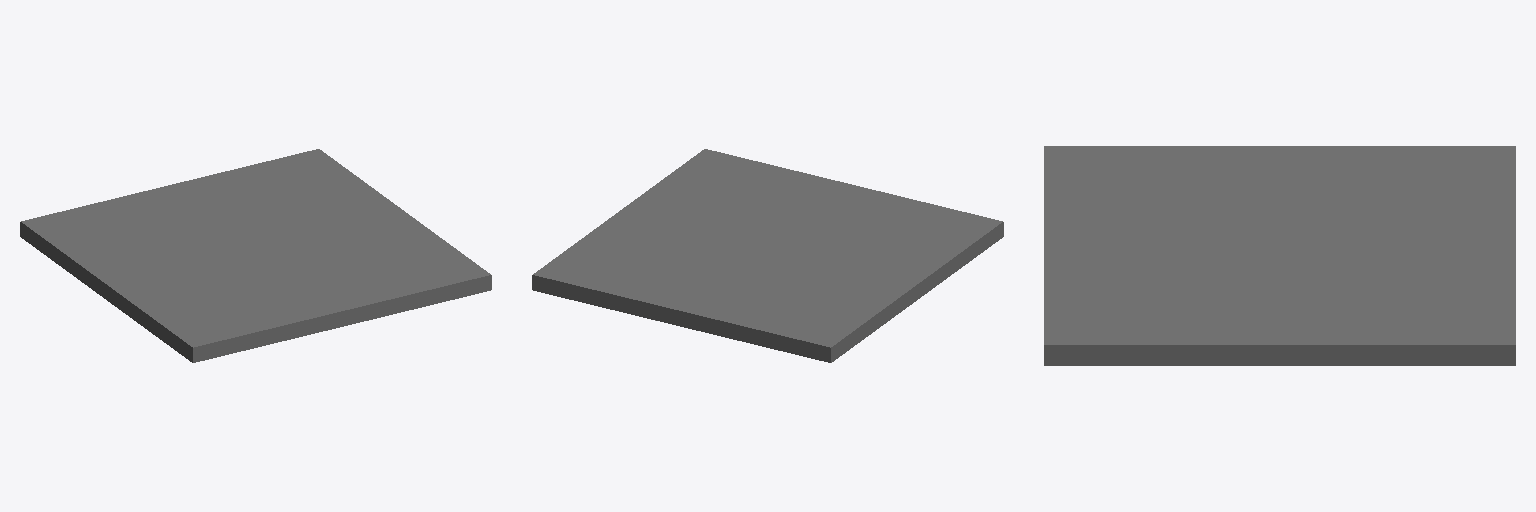
The robot description file, URDF, robot "mantel":
<?xml version="1.0"?>
<robot name="mantel">
  <link name="mantel_link">
    <visual>
      <geometry>
        <box size="0.2 0.2 0.01"/>
      </geometry>
      <material name="gray">
        <color rgba="0.5 0.5 0.5 1.0"/>
      </material>
    </visual>
    <collision>
      <geometry>
        <box size="0.6 0.6 0.01"/>
      </geometry>
    </collision>
    <inertial>
      <mass value="0.1"/>
      <origin xyz="0 0 0" rpy="0 0 0"/>
      <inertia ixx="0.0001" ixy="0.0" ixz="0.0" iyy="0.0001" iyz="0.0" izz="0.0001"/>
    </inertial>
  </link>
</robot>

--- What the picture shows (computed from the rendered views, not written in the file) ---
3 views of the same robot in one strip: view 1: azimuth 30°, elevation 25°; view 2: azimuth 150°, elevation 25°; view 3: azimuth 270°, elevation 25° (orthographic).
Robot: mantel — 1 links, 0 joints (none); root link mantel_link; default pose: every joint at zero.
Links seen in each view (by area): view 1: mantel_link; view 2: mantel_link; view 3: mantel_link.
Boxes of the visible links, left/top/right/bottom form: mantel_link: left=20, top=149, right=491, bottom=362; mantel_link: left=532, top=149, right=1003, bottom=362; mantel_link: left=1044, top=146, right=1515, bottom=365.
Bounding box of the posed robot: 0.2 × 0.2 × 0.01 m (x, y, z).
Geometry: primitives only (box / cylinder / sphere), no mesh files.